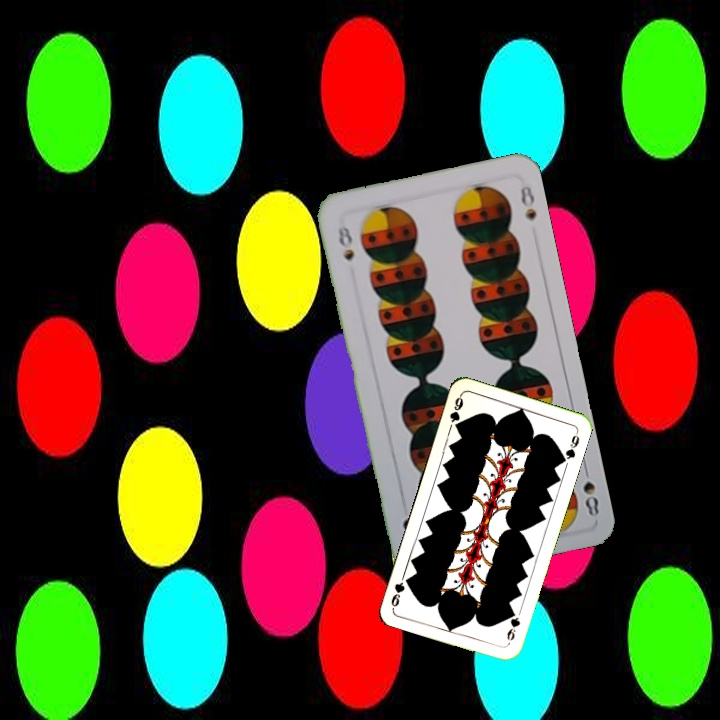G9: (446, 391, 466, 432), (503, 607, 523, 643)
S8: (578, 460, 602, 519), (334, 222, 357, 263)
